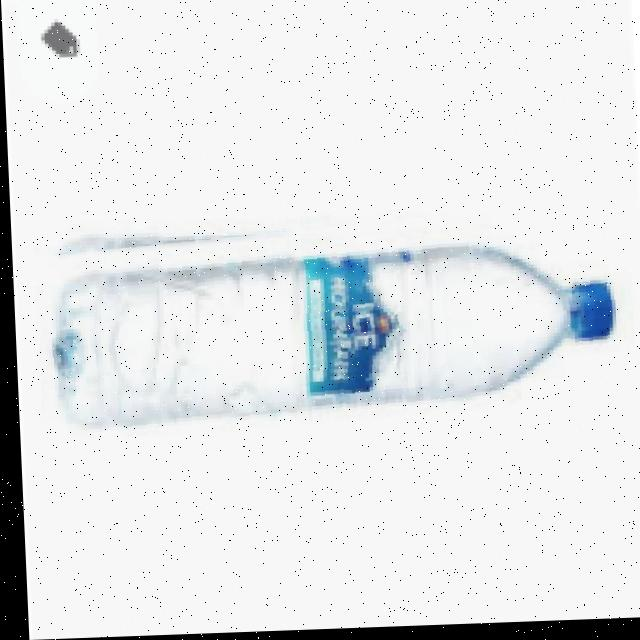litter: (28, 200, 640, 442), (549, 257, 621, 363)
